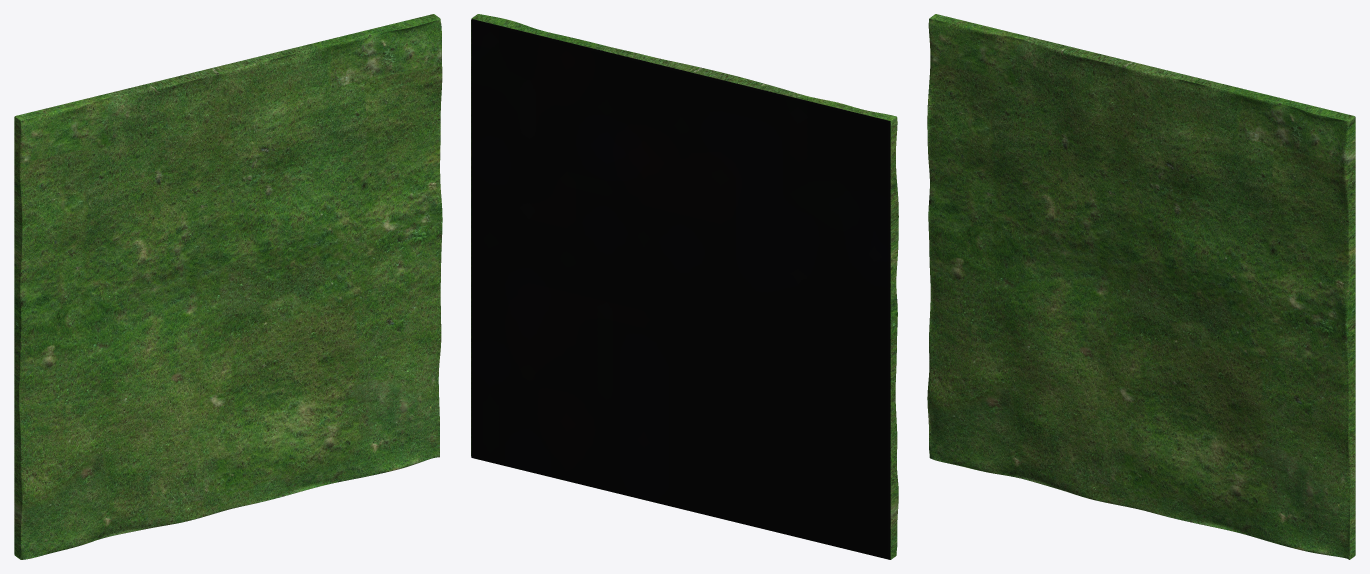
The model's file is grass_plane.obj.
The picture shows the model from 3 angles, left to right: view 1: azimuth 30°, elevation 25°; view 2: azimuth 150°, elevation 25°; view 3: azimuth 330°, elevation 25°; orthographic projection.
Visible parts, largest first — view 1: 10450_Rectangular_Grass_Patch_v1; view 2: 10450_Rectangular_Grass_Patch_v1; view 3: 10450_Rectangular_Grass_Patch_v1.
Boxes of the visible parts, <box> form: 10450_Rectangular_Grass_Patch_v1: <box>14,14,442,559</box>; 10450_Rectangular_Grass_Patch_v1: <box>471,14,898,559</box>; 10450_Rectangular_Grass_Patch_v1: <box>927,14,1355,559</box>.
Bounding box in the file's own units: 300 × 300 × 11.78.
Materials: 1 (1 with a texture image).
